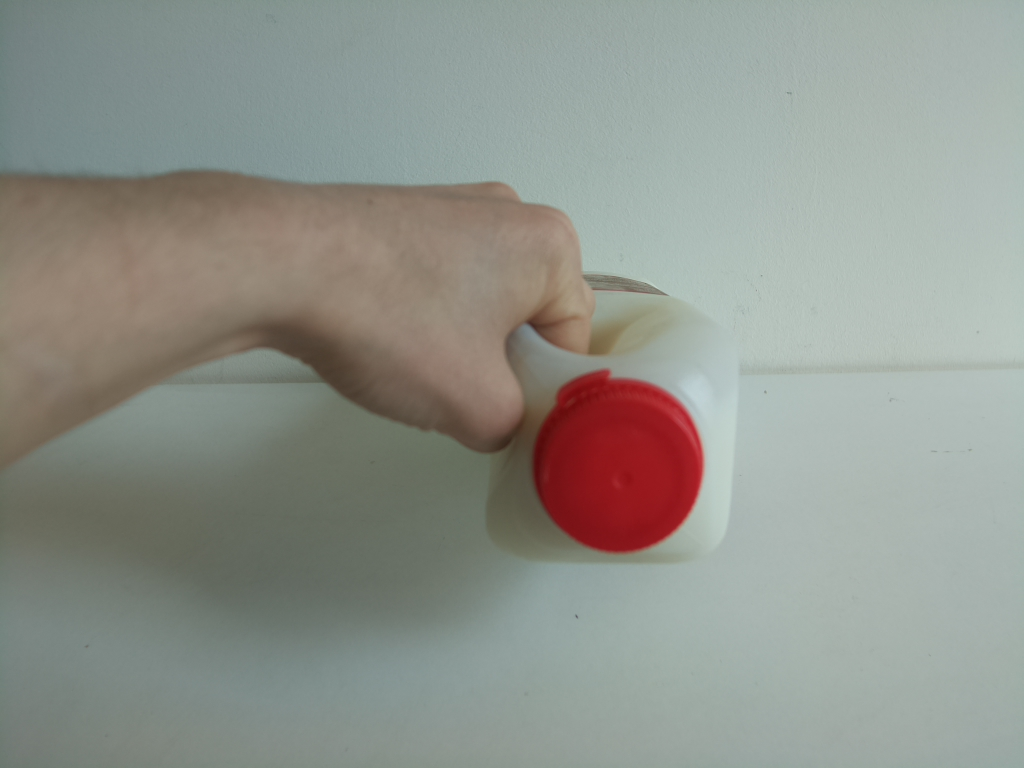milk: (477, 261, 747, 570)
